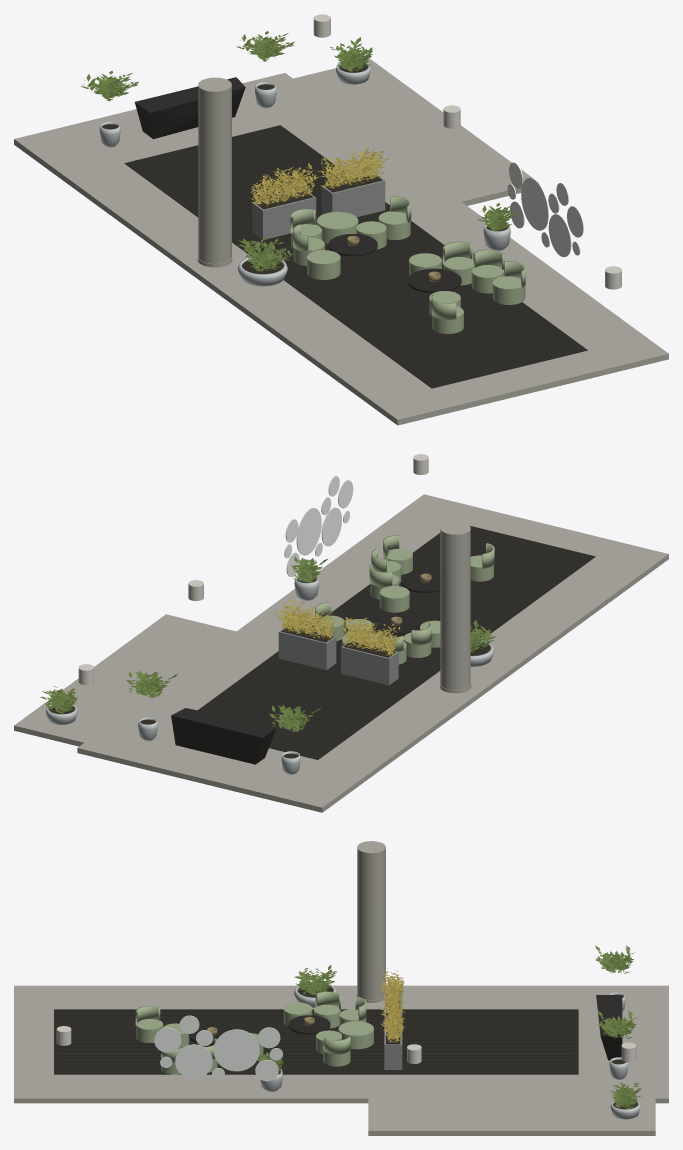
The model's file is M2_cutaway.glb.
The picture shows the model from 3 angles, top to bottom: view 1: azimuth 30°, elevation 25°; view 2: azimuth 150°, elevation 25°; view 3: azimuth 270°, elevation 25°; orthographic projection. The views are drawn at different scales.
Visible parts, largest first — view 1: floor.main_slab, dark_floor_inlay.long_inlay, floor.rear_extension, window_column.shaft, reception_desk.faceted_counter, divider_planter_right.container, divider_planter_left.container, mirror_00.reflective_disc, window_shrub_foliage.leaves, lounge_B_table.top, reception_tree_right_canopy.leaves, reception_tree_left_canopy.leaves (+5 smaller); view 2: floor.main_slab, dark_floor_inlay.long_inlay, floor.rear_extension, window_column.shaft, reception_desk.faceted_counter, divider_planter_right.container, divider_planter_left.container, mirror_00.reflective_disc, reception_tree_right_canopy.leaves, reception_tree_left_canopy.leaves, lounge_B_table.top, lounge_A_table.top (+3 smaller); view 3: floor.main_slab, dark_floor_inlay.long_inlay, floor.rear_extension, window_column.shaft, mirror_00.reflective_disc, reception_desk.faceted_counter, mirror_01.reflective_disc, window_shrub_foliage.leaves, reception_tree_left_canopy.leaves, reception_tree_right_canopy.leaves, lounge_A_table.top, mirror_05.reflective_disc (+2 smaller).
Boxes of the visible parts, x1,y1,x2,y2 form: floor.main_slab: [14, 73, 668, 425]; dark_floor_inlay.long_inlay: [124, 125, 587, 388]; floor.rear_extension: [291, 59, 538, 205]; window_column.shaft: [198, 77, 231, 263]; reception_desk.faceted_counter: [134, 77, 245, 138]; divider_planter_right.container: [321, 173, 385, 216]; divider_planter_left.container: [252, 190, 316, 239]; mirror_00.reflective_disc: [521, 178, 548, 230]; window_shrub_foliage.leaves: [238, 236, 293, 271]; lounge_B_table.top: [407, 268, 461, 293]; reception_tree_right_canopy.leaves: [236, 31, 294, 61]; reception_tree_left_canopy.leaves: [80, 70, 138, 101]; floor.main_slab: [77, 494, 668, 812]; dark_floor_inlay.long_inlay: [197, 526, 595, 759]; floor.rear_extension: [14, 614, 241, 746]; window_column.shaft: [440, 522, 470, 690]; reception_desk.faceted_counter: [171, 708, 276, 764]; divider_planter_right.container: [278, 626, 336, 670]; divider_planter_left.container: [341, 642, 398, 685]; mirror_00.reflective_disc: [296, 508, 321, 555]; reception_tree_right_canopy.leaves: [126, 670, 178, 698]; reception_tree_left_canopy.leaves: [269, 704, 321, 731]; lounge_B_table.top: [401, 571, 440, 592]; lounge_A_table.top: [374, 615, 418, 635]; floor.main_slab: [14, 985, 668, 1103]; dark_floor_inlay.long_inlay: [54, 1009, 578, 1074]; floor.rear_extension: [368, 1098, 655, 1135]; window_column.shaft: [357, 841, 385, 999]; mirror_00.reflective_disc: [213, 1029, 259, 1071]; reception_desk.faceted_counter: [596, 995, 622, 1060]; mirror_01.reflective_disc: [175, 1044, 212, 1078]; window_shrub_foliage.leaves: [294, 965, 336, 995]; reception_tree_left_canopy.leaves: [595, 945, 635, 973]; reception_tree_right_canopy.leaves: [597, 1010, 636, 1038]; lounge_A_table.top: [288, 1015, 330, 1034]; mirror_05.reflective_disc: [154, 1027, 181, 1052].
Size of the model in its own units: 10.3 by 5.1 by 19.6.
